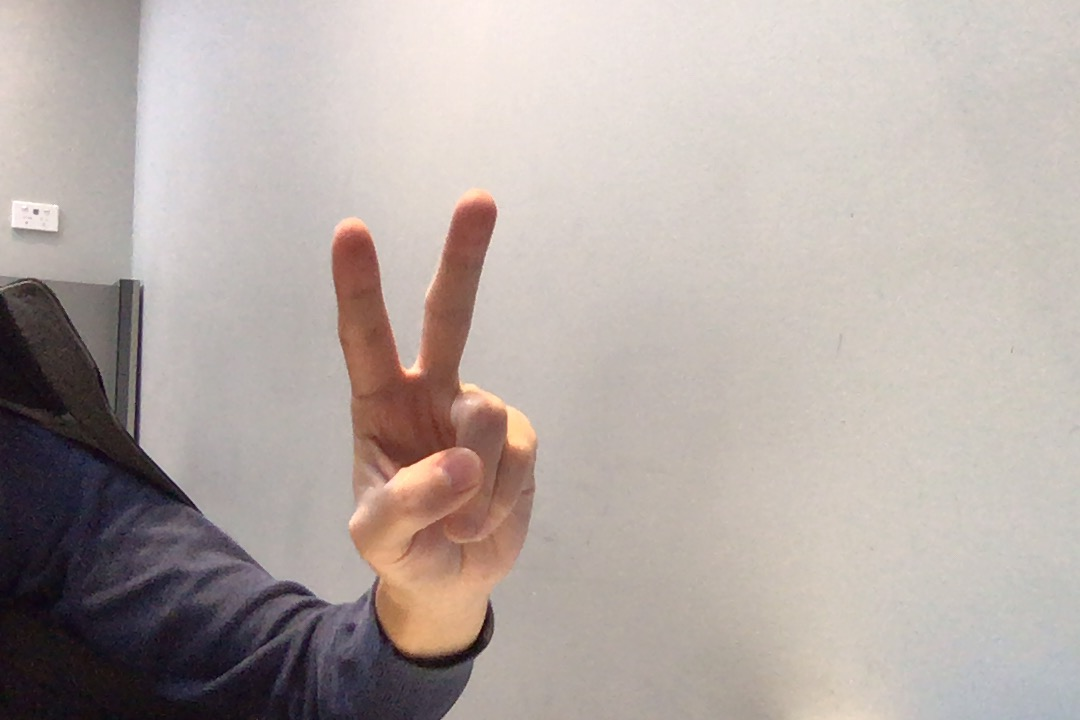peacesign: (310, 178, 567, 618)
